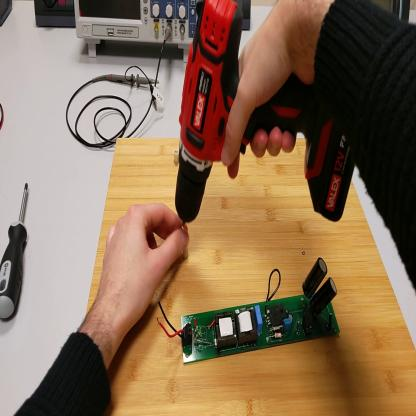electric screwdriver: (175, 2, 356, 230)
hand: (220, 2, 315, 180), (100, 203, 188, 330)
high voltage board: (157, 252, 341, 366)
oscilloscope: (75, 1, 199, 63)
oscilloscope probe tip: (107, 72, 160, 89)
screwdriver-: (2, 181, 29, 322)
socket: (35, 2, 78, 31), (2, 2, 14, 26)
welder station: (370, 1, 412, 25)
working area: (88, 136, 416, 416)
